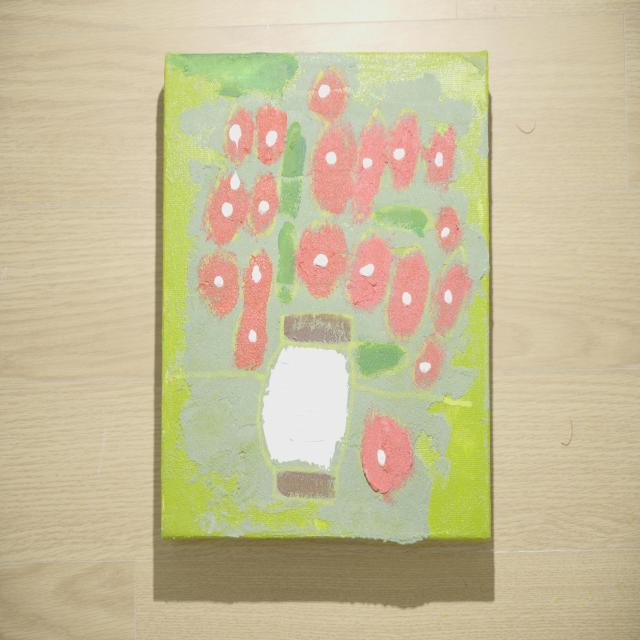painting: (162, 53, 490, 543)
